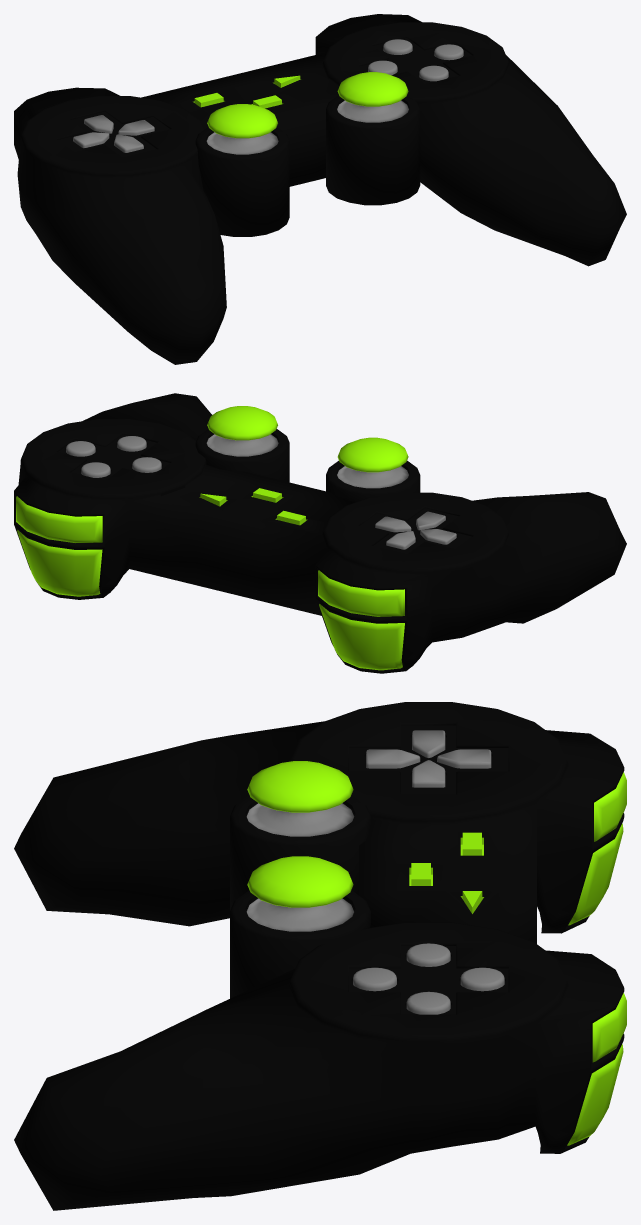
3 renders of one model, top to bottom at view 1: azimuth 30°, elevation 25°; view 2: azimuth 150°, elevation 25°; view 3: azimuth 270°, elevation 25°, orthographic. The views are drawn at different scales.
Visible parts, largest first — view 1: Cylinder001; view 2: Cylinder001; view 3: Cylinder001.
Boxes of the visible parts, box(x1,y1,x2,y2) form: Cylinder001: box(14, 14, 626, 364); Cylinder001: box(14, 393, 626, 673); Cylinder001: box(14, 702, 626, 1210).
Size of the model in its own units: 12.16 by 3.68 by 8.66.
